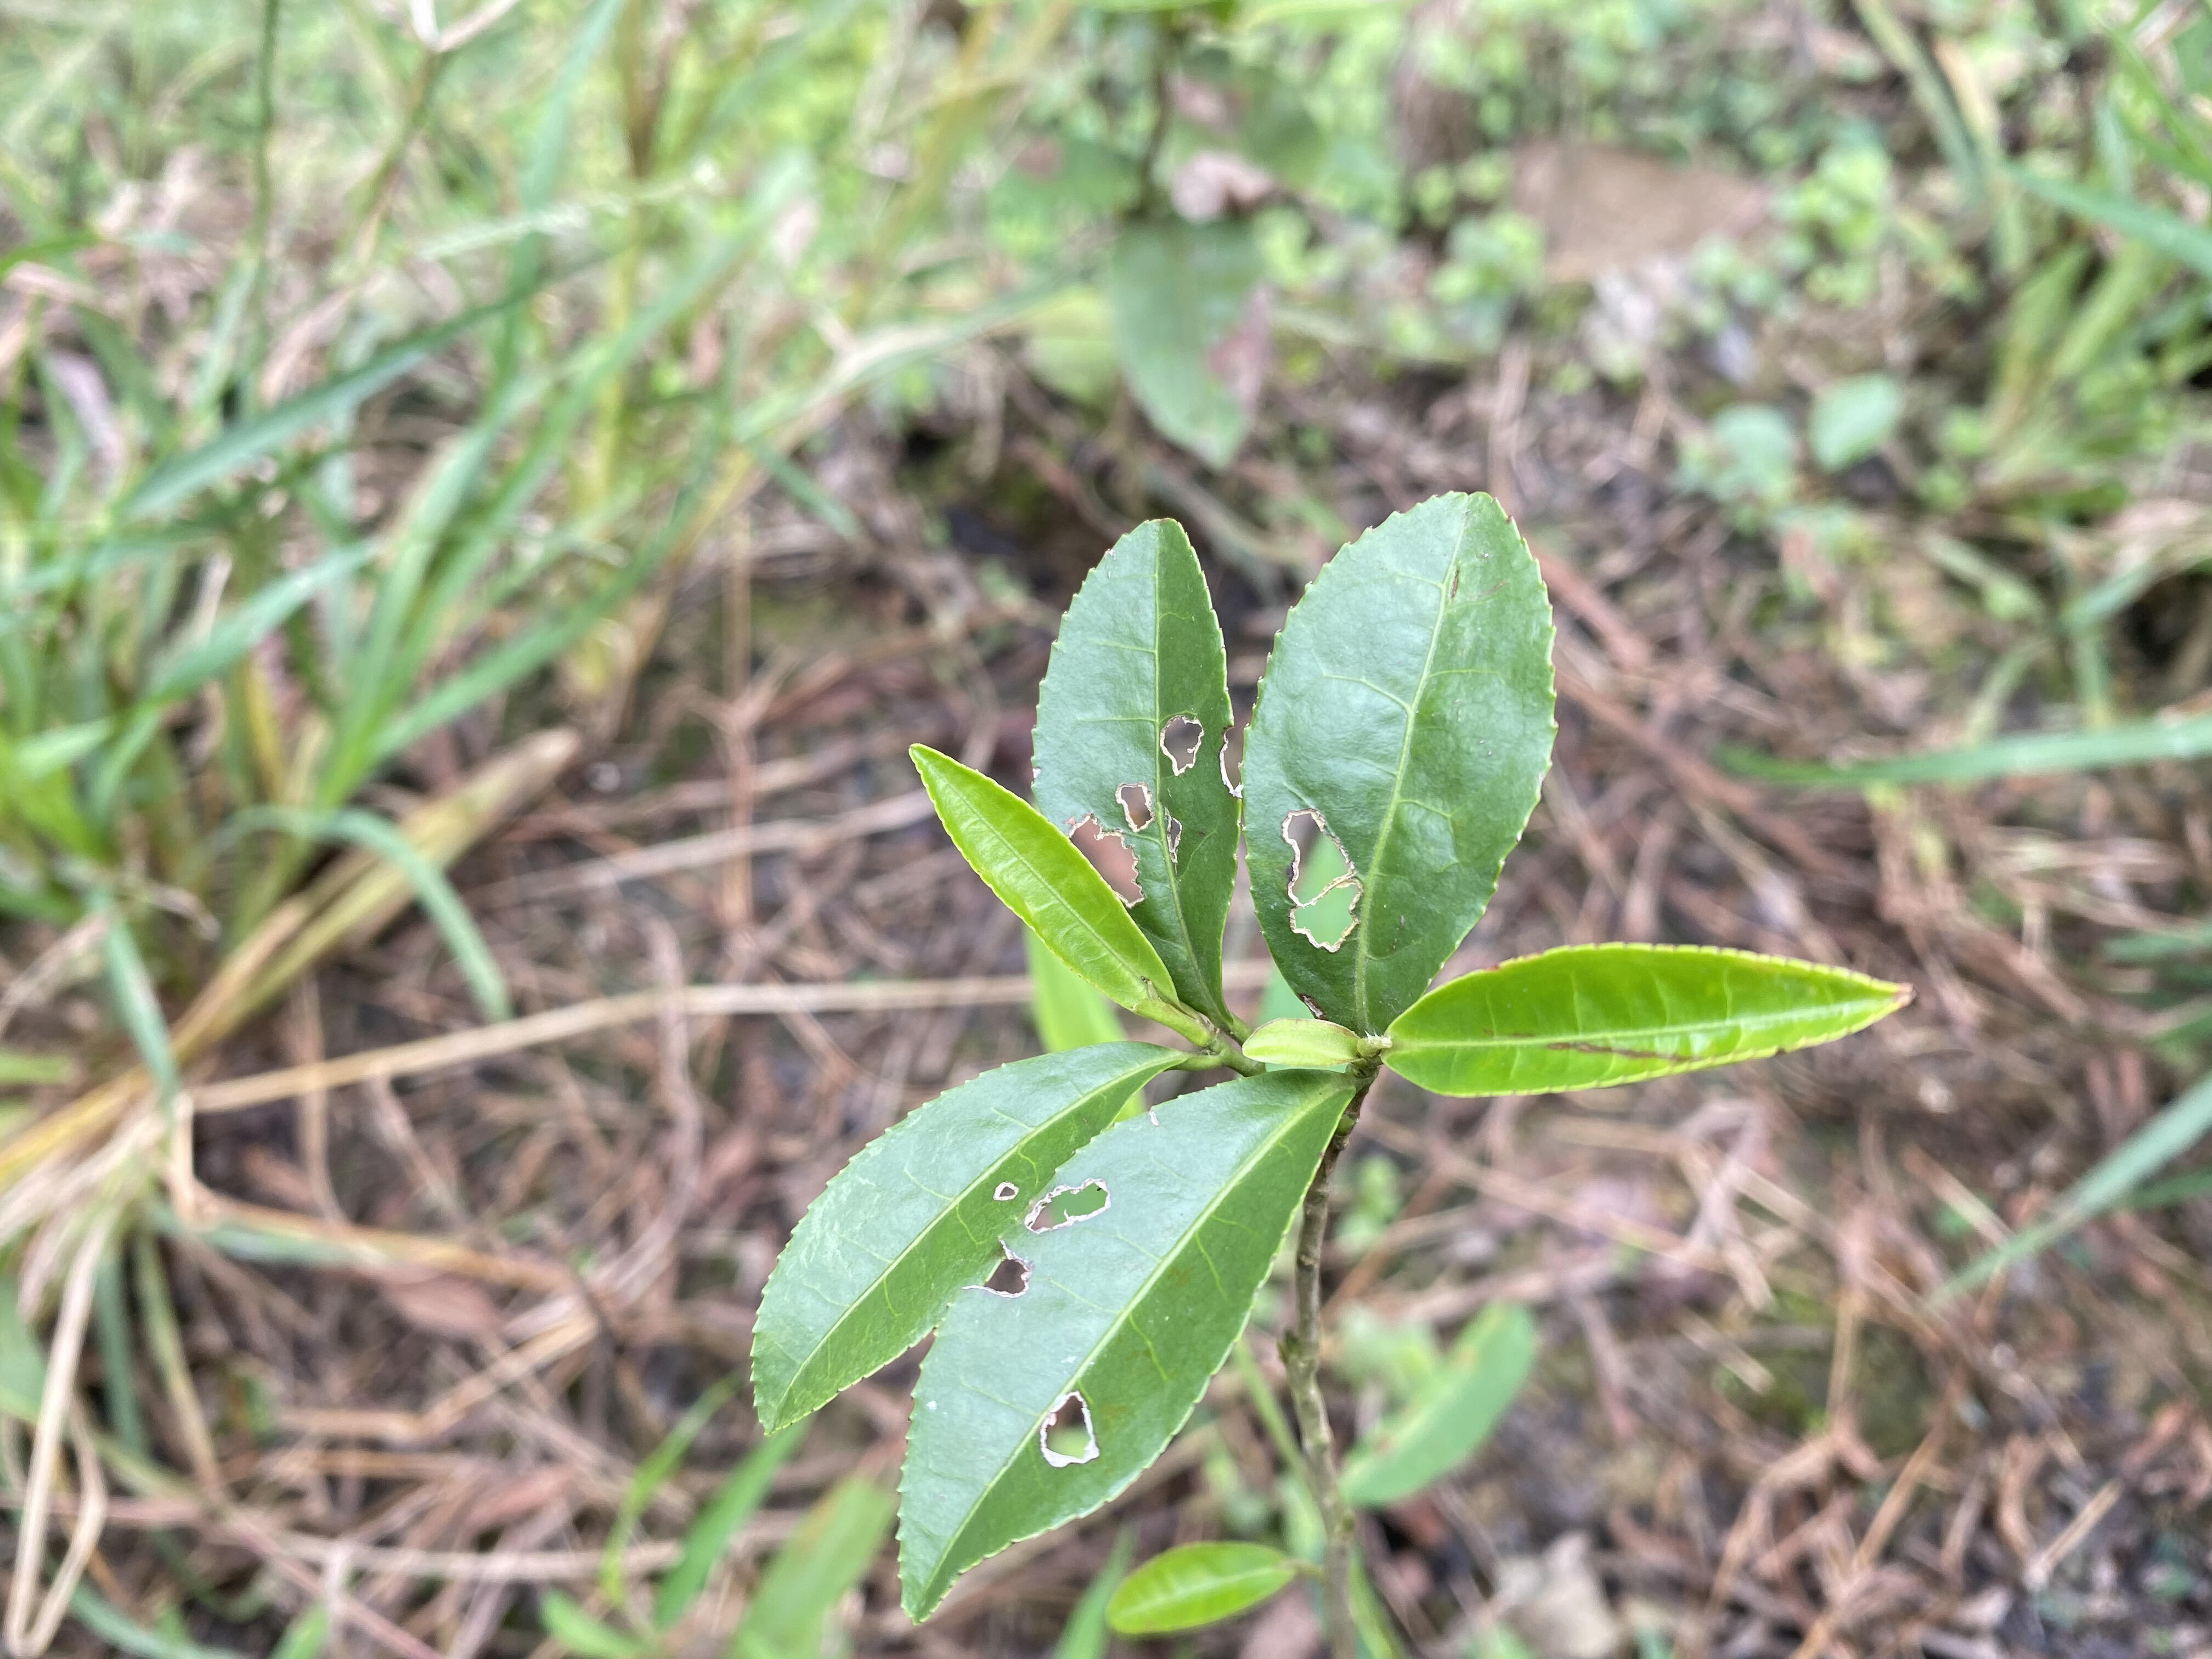chihuo_high: (894, 1070, 1360, 1624), (1244, 488, 1562, 1042), (1031, 514, 1240, 1016)
chihuo_low: (744, 1042, 1174, 1441)
healthy: (1364, 943, 1918, 1096), (907, 742, 1176, 1021)
